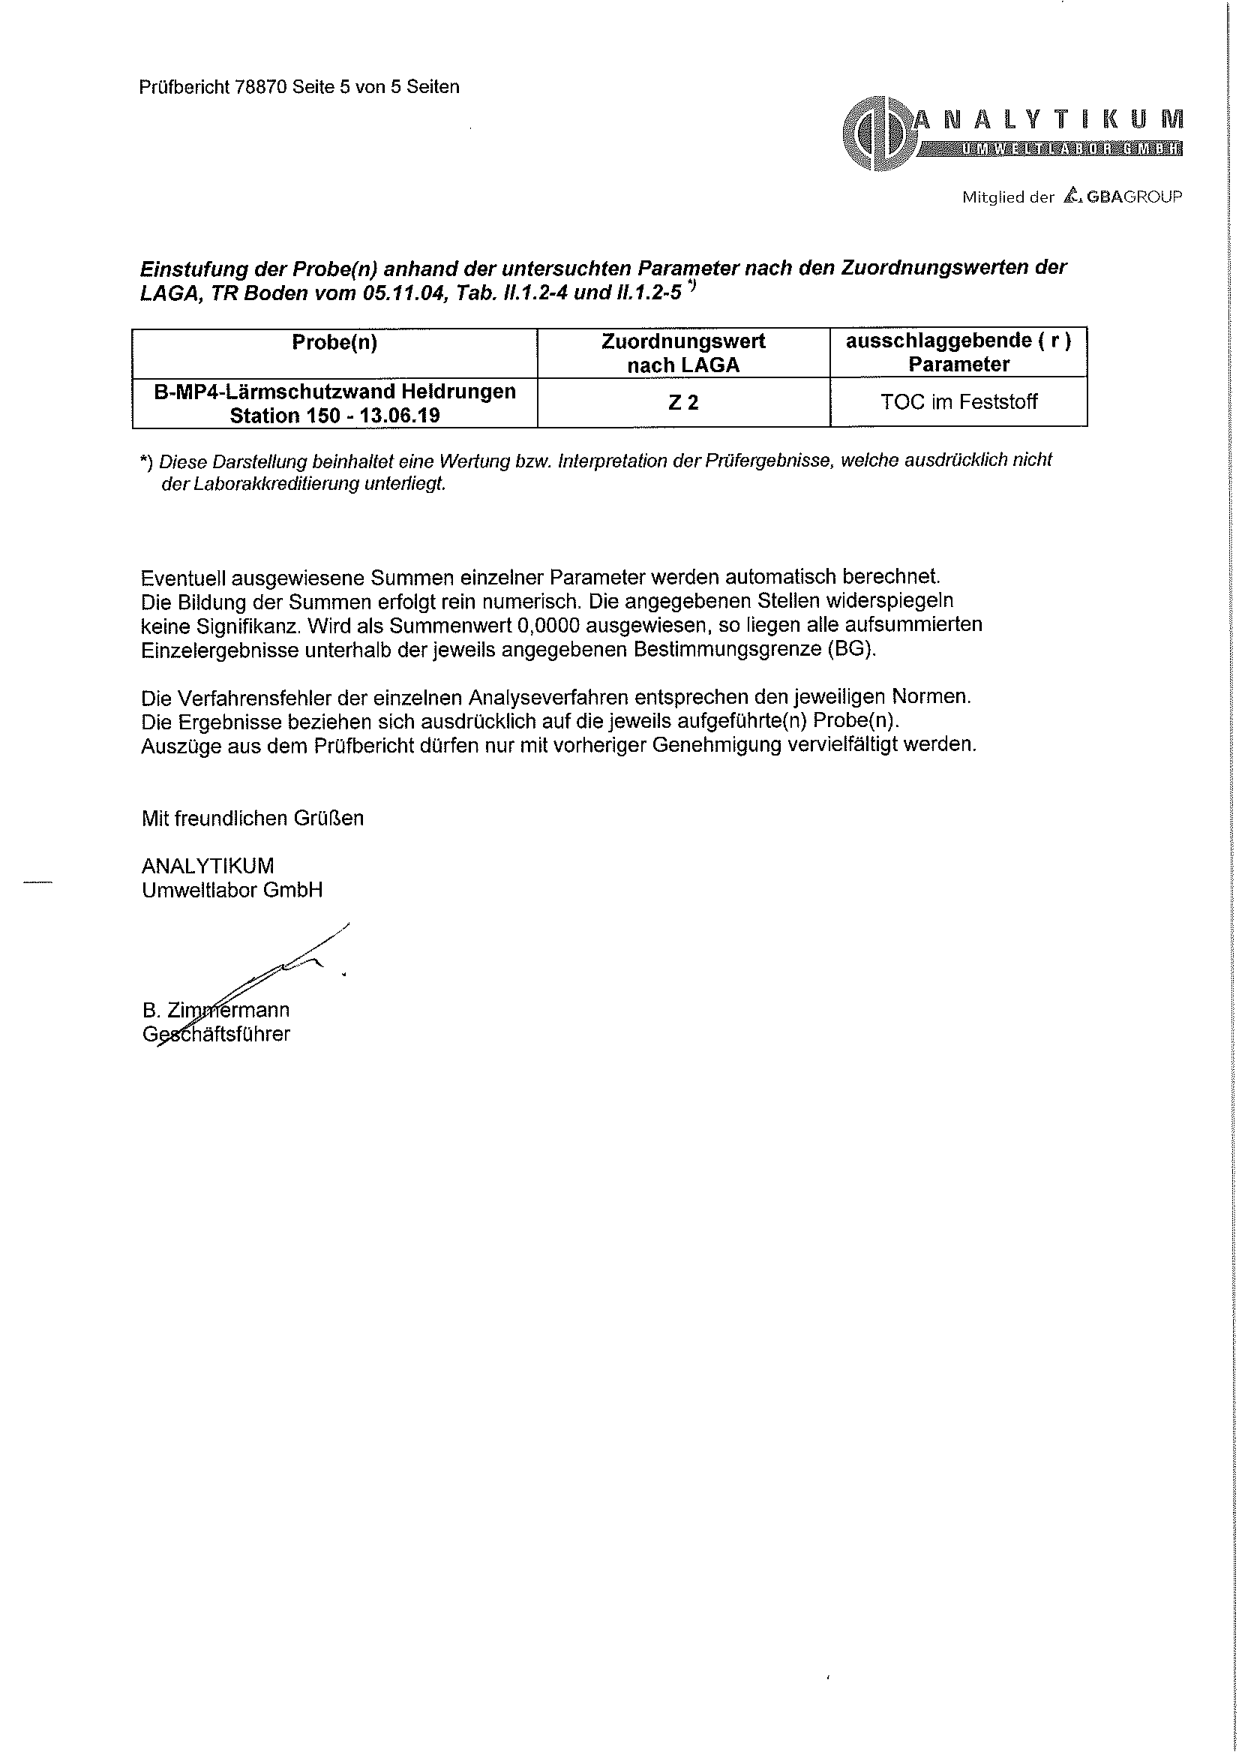table: (121, 317, 1103, 436)
